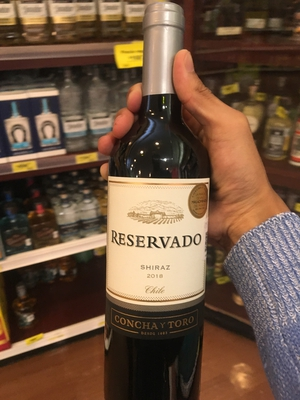reservado shiraz: (104, 8, 211, 400)
